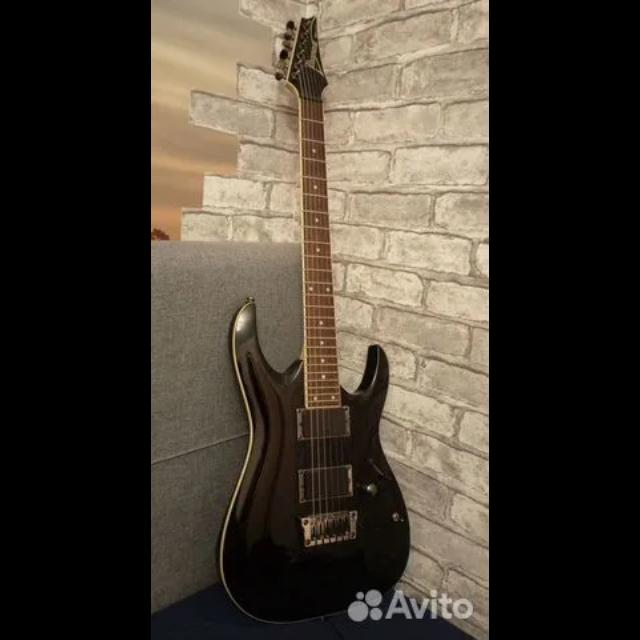Electric-Guitar: (218, 18, 410, 624)
